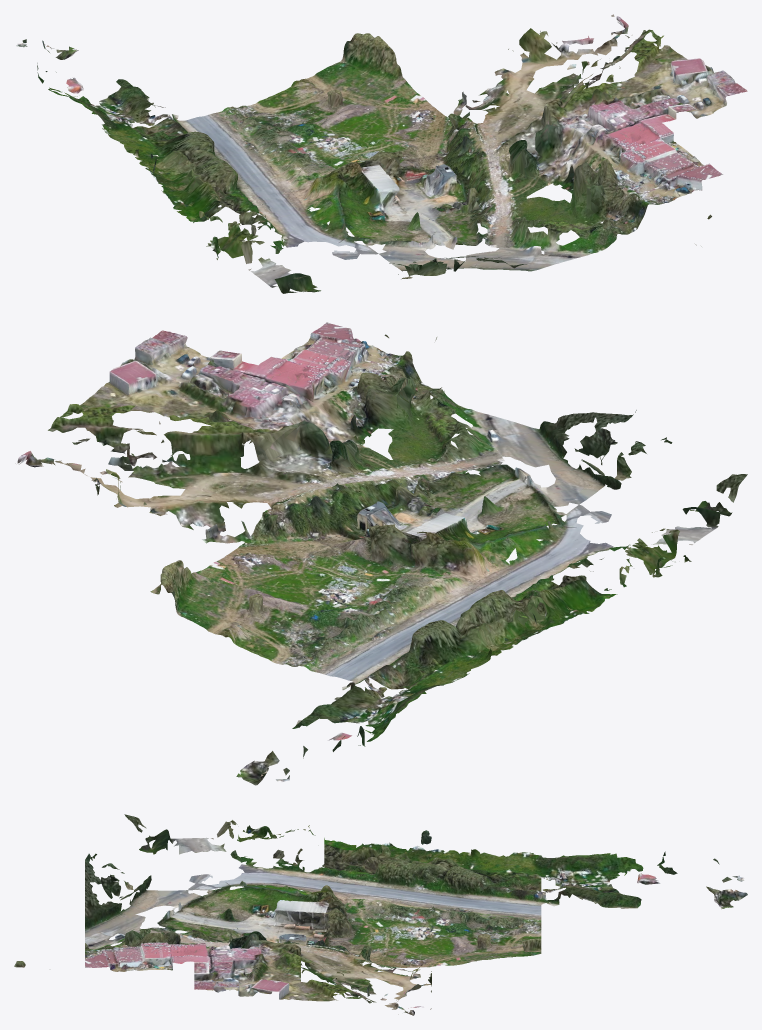
Rendered from bairro_08.glb.
3 views of the same model, one above another, from view 1: azimuth 30°, elevation 25°; view 2: azimuth 150°, elevation 25°; view 3: azimuth 270°, elevation 25° (orthographic). The views are drawn at different scales.
Parts seen in each view (by area): view 1: bairro_08; view 2: bairro_08; view 3: bairro_08.
Part boxes in pixels (x1,y1,x2,y2): bairro_08: (16,14,747,293); bairro_08: (15,322,747,785); bairro_08: (14,814,747,1015).
Size of the model in its own units: 150 by 27.48 by 213.
Materials: 1 (1 with a texture image).
